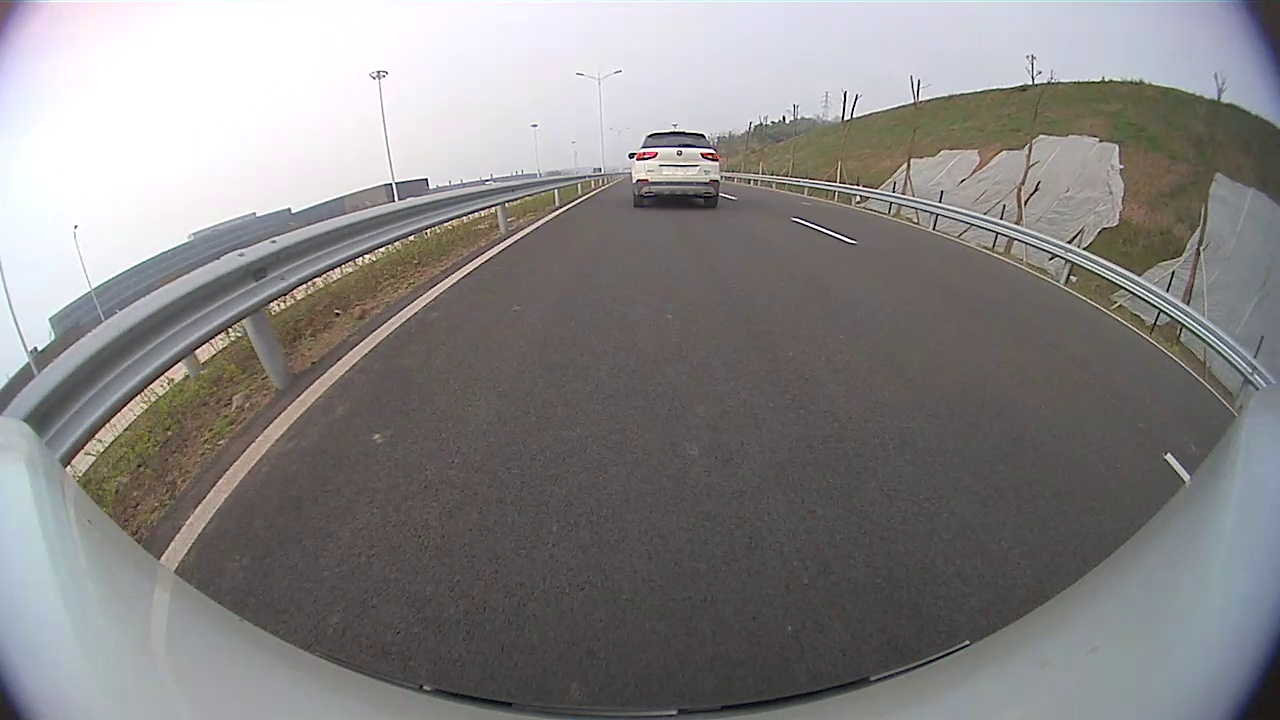car: (627, 129, 722, 210)
